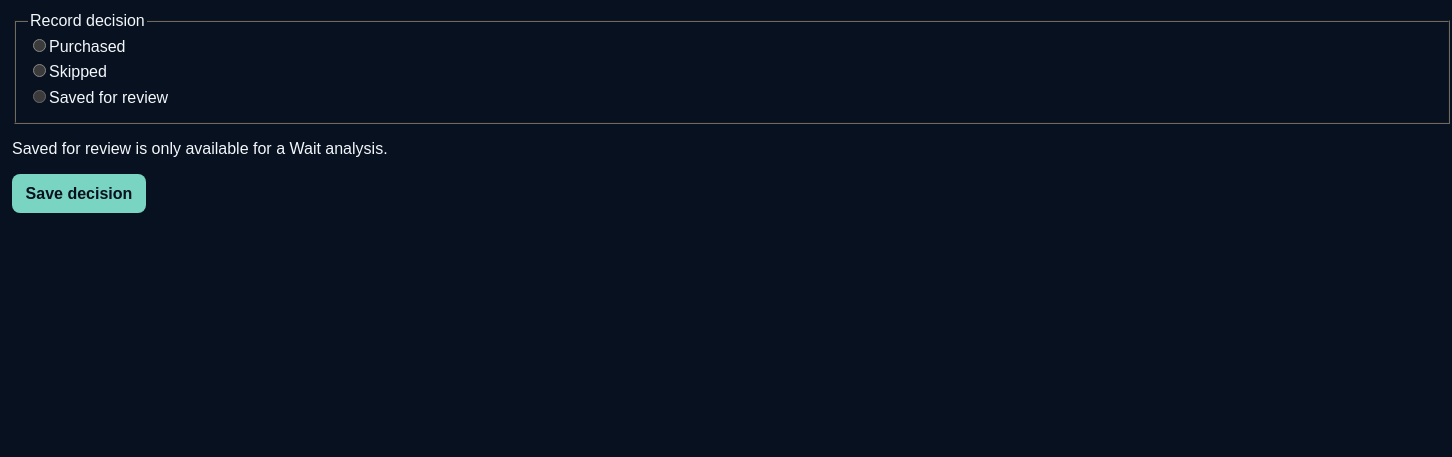
PurchaseDecision › uses the atomic candidate decision operation when purchasing a refreshed candidate
The width and height of the screenshot is (1452, 457).
Click the radio button labelled "Purchased" at (40, 45), box [33, 39, 46, 52]
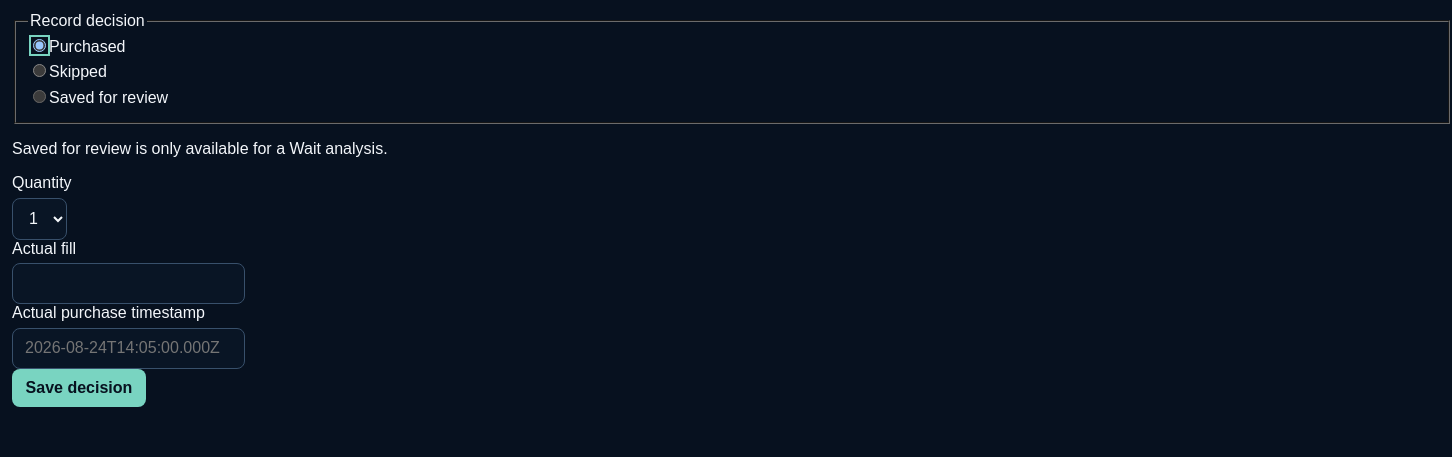
Type "1.25" into the number field labelled "Actual fill" at (128, 284), box [12, 263, 245, 304]
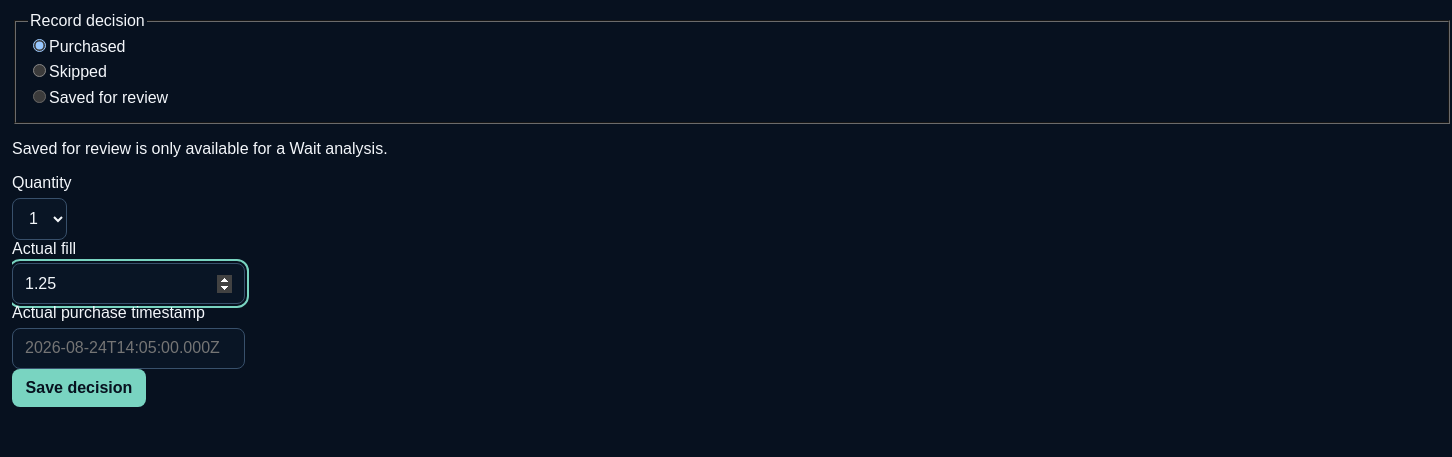
Type "2026-08-25T14:05:00.000Z" into the field labelled "Actual purchase timestamp" at (128, 348), box [12, 328, 245, 368]
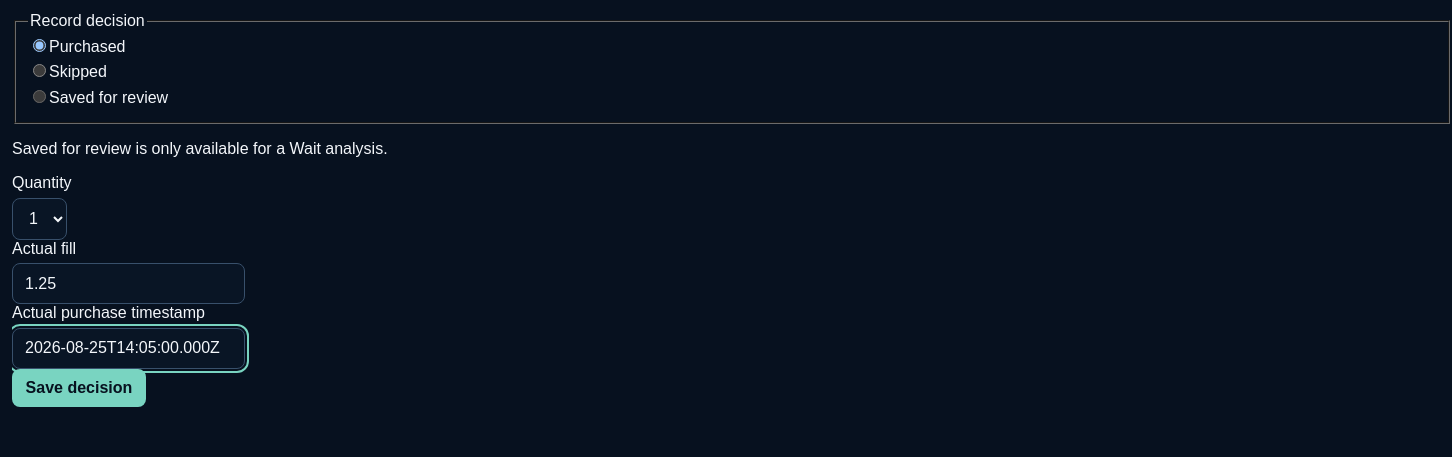
Click the button "Save decision" at (79, 388), box [12, 368, 146, 407]
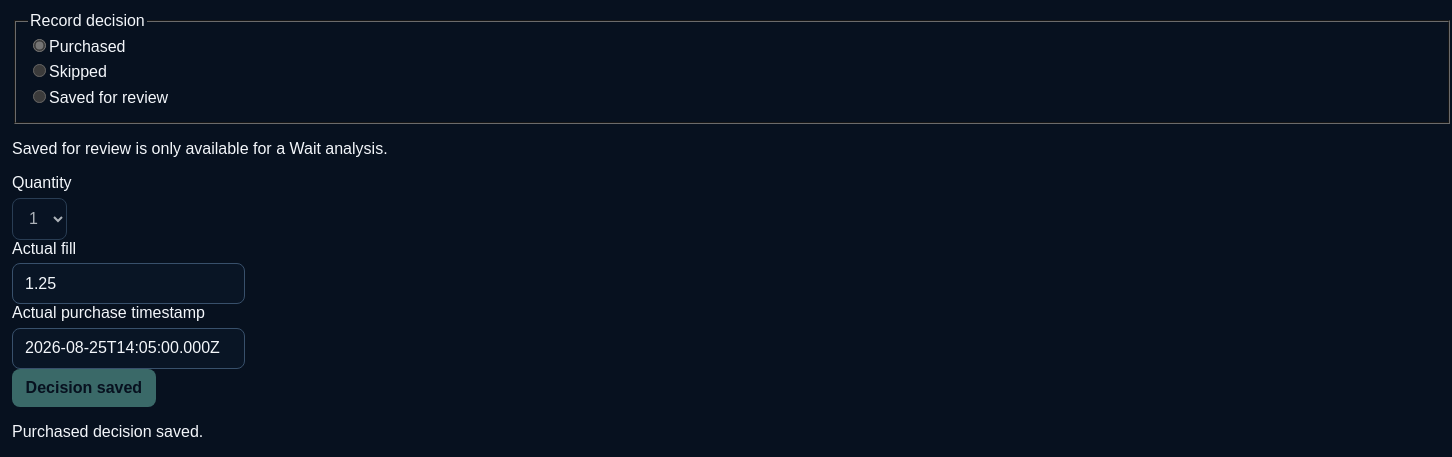
Check: the text "Purchased decision saved." is shown, box [12, 423, 203, 440]
